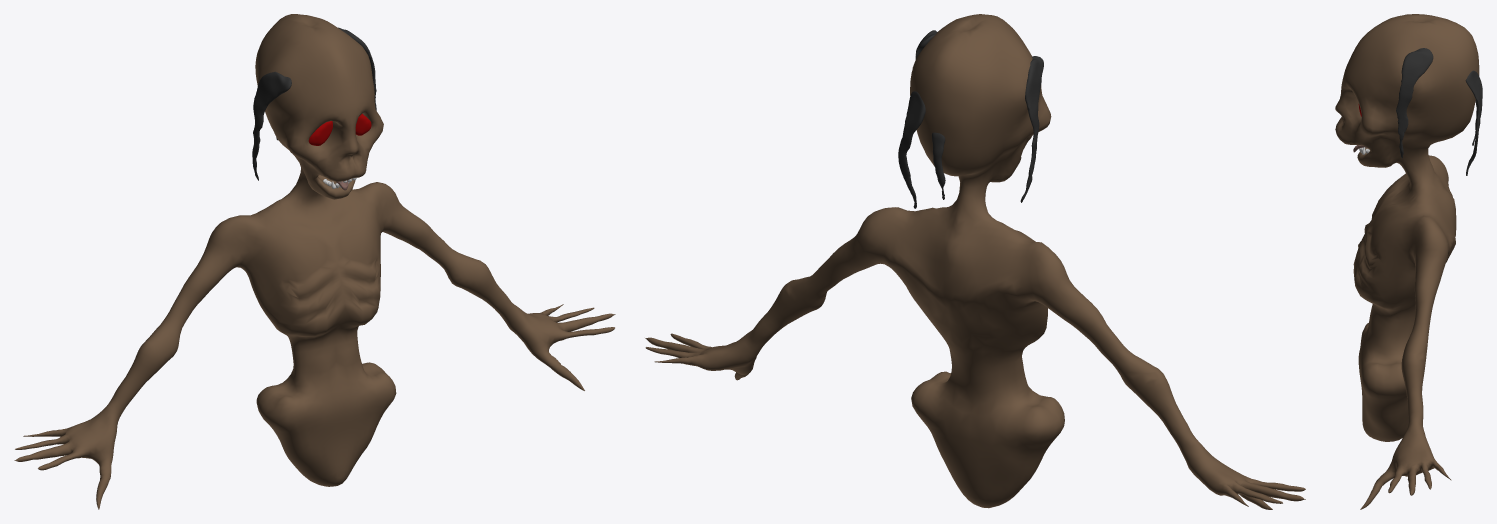
Rendered from personaje debil03 low poly.fbx.
The picture shows the model from 3 angles, left to right: view 1: azimuth 30°, elevation 25°; view 2: azimuth 150°, elevation 25°; view 3: azimuth 270°, elevation 25°; orthographic projection. The views are drawn at different scales.
Parts seen in each view (by area): view 1: low poly; view 2: low poly; view 3: low poly.
Part boxes in pixels (x1=…): low poly: x1=14, y1=14, x2=615, y2=509; low poly: x1=645, y1=14, x2=1305, y2=509; low poly: x1=1335, y1=14, x2=1482, y2=509.
Bounding box in the file's own units: 15.06 × 10.72 × 3.4.
